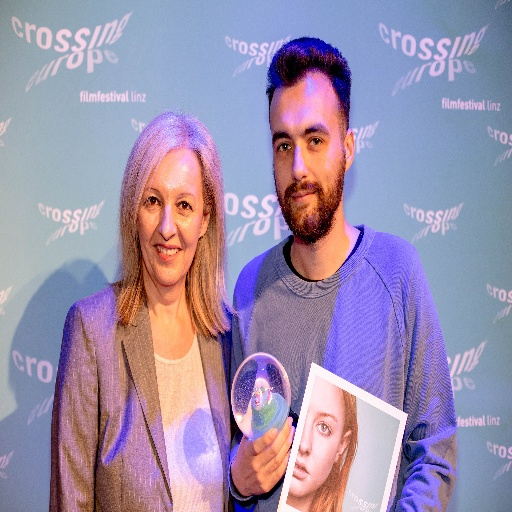hand: (230, 422, 295, 493)
